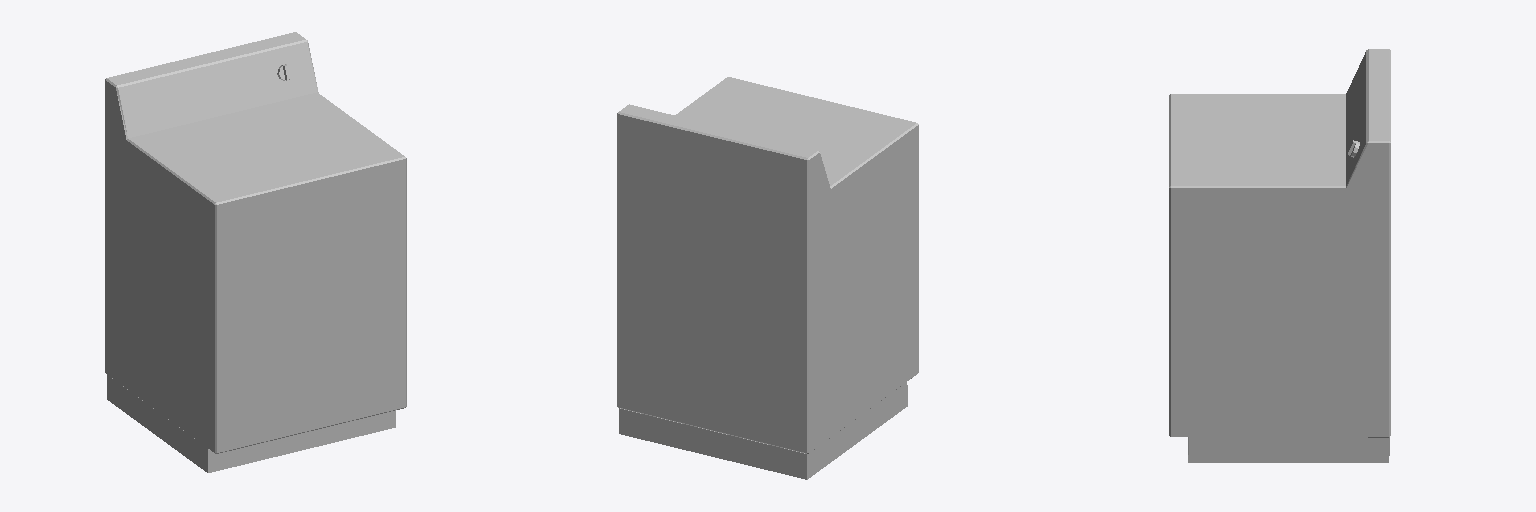
File: dryer.obj
3 renders of one model, left to right at view 1: azimuth 30°, elevation 25°; view 2: azimuth 150°, elevation 25°; view 3: azimuth 270°, elevation 25°, orthographic.
Parts seen in each view (by area): view 1: Model001_Model001_5_Material2453_1.0_0.0_0.0; view 2: Model001_Model001_5_Material2453_1.0_0.0_0.0; view 3: Model001_Model001_5_Material2453_1.0_0.0_0.0.
Part boxes in pixels (x1,y1,x2,y2): Model001_Model001_5_Material2453_1.0_0.0_0.0: (105,32,406,472); Model001_Model001_5_Material2453_1.0_0.0_0.0: (617,77,918,479); Model001_Model001_5_Material2453_1.0_0.0_0.0: (1169,49,1390,462).
Size of the model in its own units: 0.6983 by 1.12 by 0.6983.